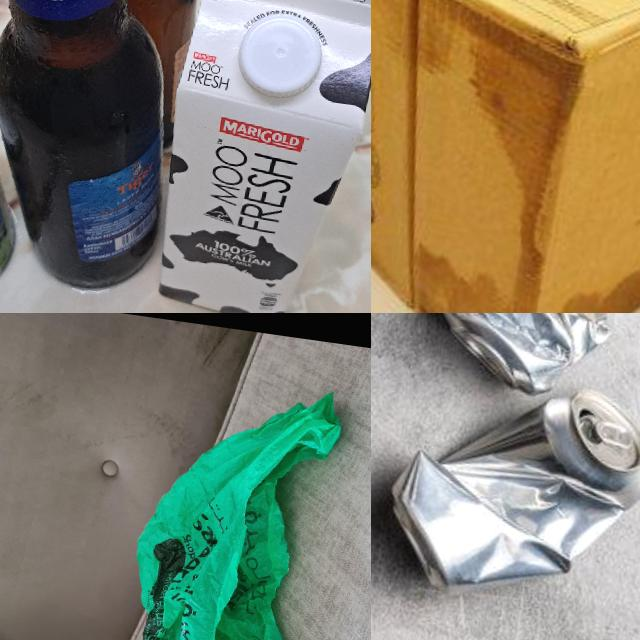aba de lata: (592, 419, 638, 450)
caixinha: (145, 0, 371, 313)
garrafa de vidro: (0, 0, 214, 300), (74, 0, 222, 153)
lata: (376, 362, 640, 619), (431, 313, 631, 405), (0, 92, 35, 310)
papelão: (371, 0, 640, 313)
sacola plástica: (112, 363, 350, 640)
tampa plástica: (236, 8, 326, 102)
